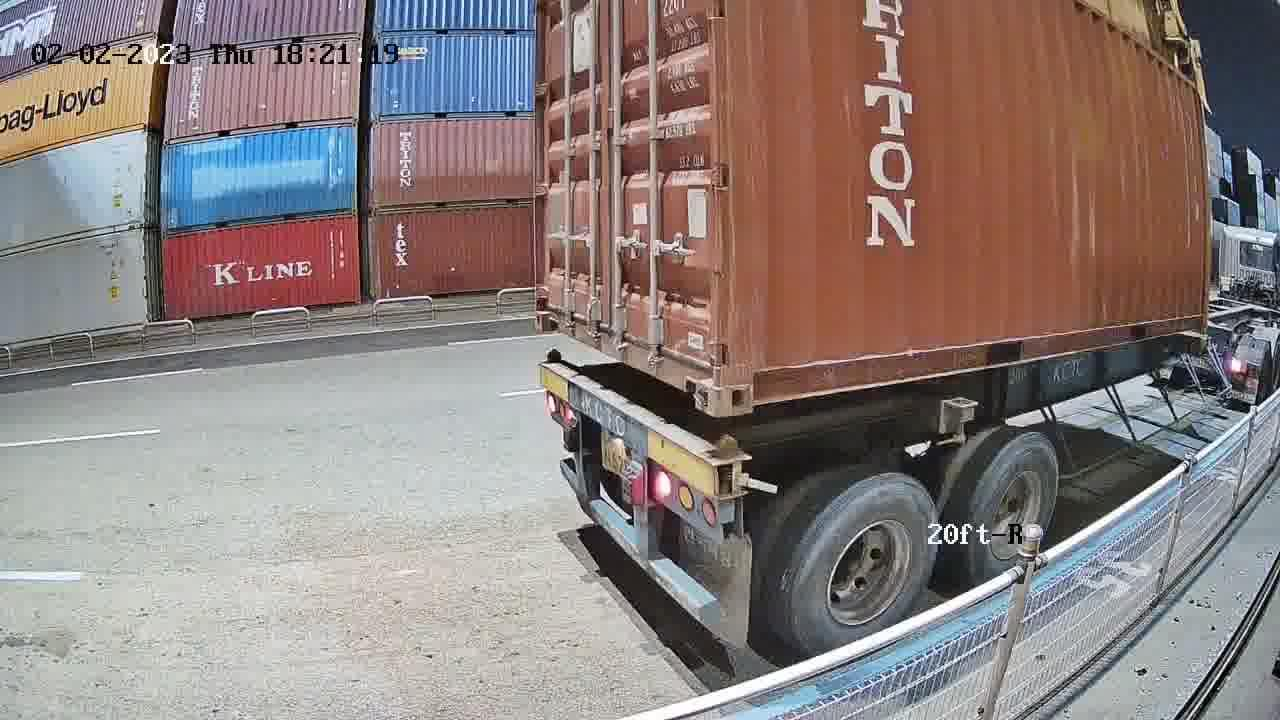Chassis: (543, 360, 747, 494)
Cone: (712, 436, 744, 497), (543, 346, 562, 364)
Hole_L: (718, 335, 780, 416), (531, 284, 568, 335)
Hole_R: (675, 335, 718, 418)
Tire: (791, 475, 940, 660), (966, 433, 1057, 591)
